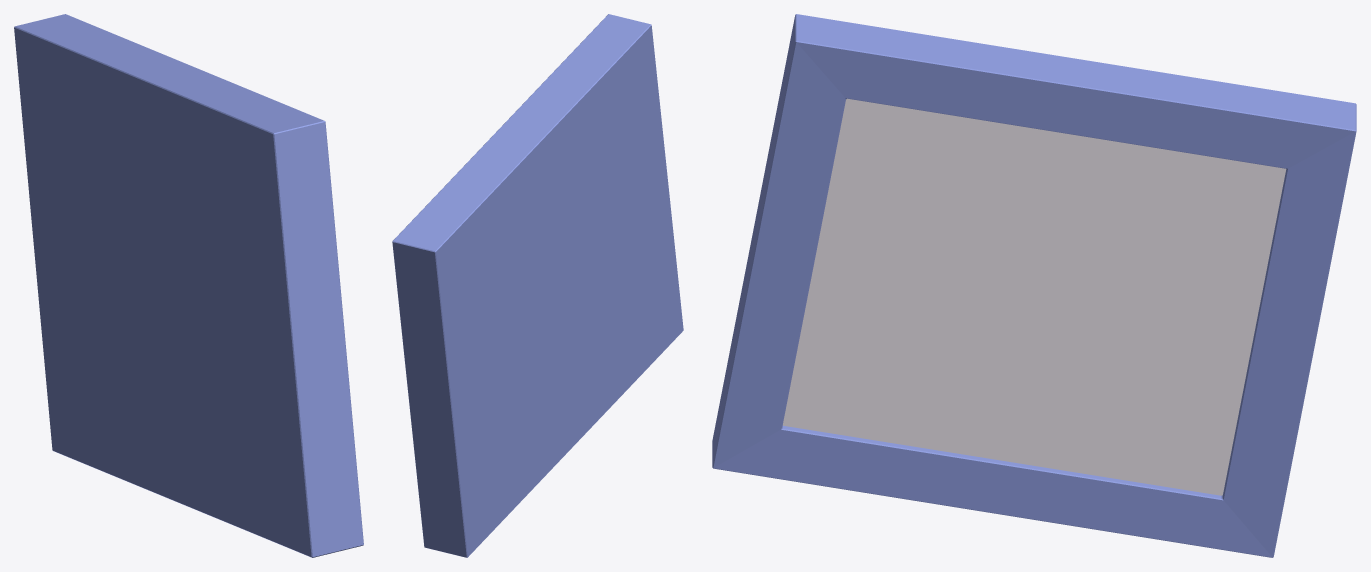
File: picture_frame.glb
The picture shows the model from 3 angles, left to right: view 1: azimuth 30°, elevation 25°; view 2: azimuth 150°, elevation 25°; view 3: azimuth 270°, elevation 25°; orthographic projection. The views are drawn at different scales.
Parts seen in each view (by area): view 1: Picture_Frame; view 2: Picture_Frame; view 3: Picture, Picture_Frame.
Boxes of the visible parts, x1=… form: Picture_Frame: x1=14, y1=14, x2=363, y2=557; Picture_Frame: x1=392, y1=14, x2=683, y2=557; Picture: x1=783, y1=98, x2=1286, y2=495; Picture_Frame: x1=712, y1=14, x2=1356, y2=557.
Size of the model in its own units: 0.6469 by 5.66 by 6.38.
